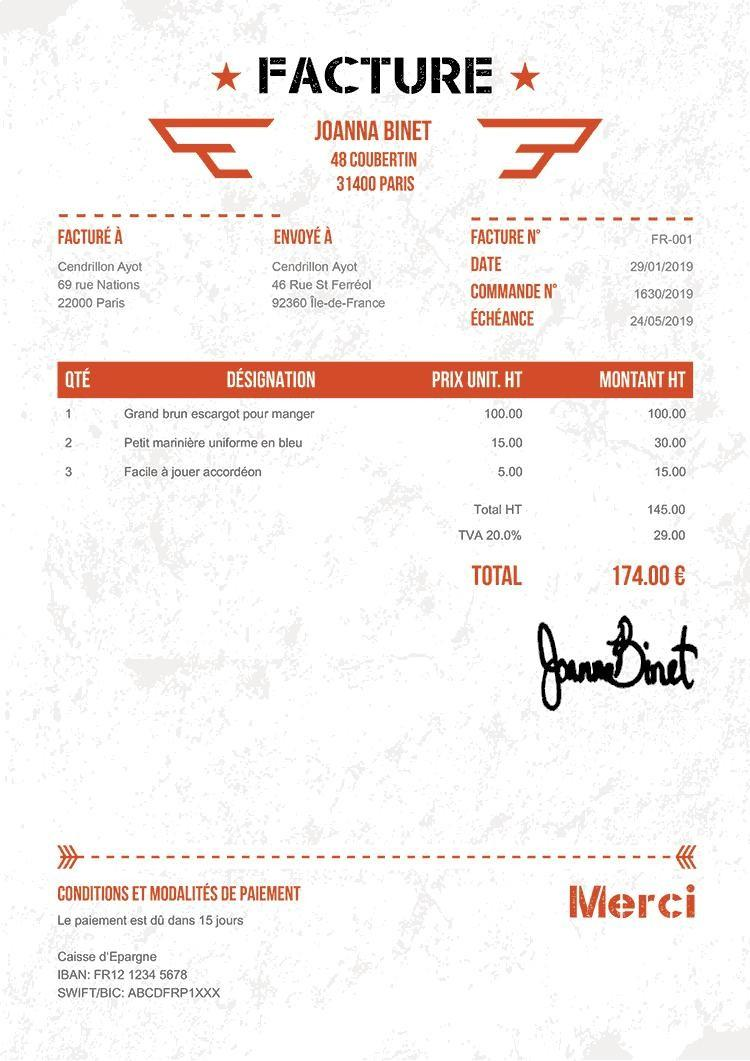ROI: (60, 365, 693, 550), (54, 877, 313, 1007), (466, 222, 704, 340), (309, 117, 447, 210), (54, 221, 171, 317), (467, 562, 691, 592)
